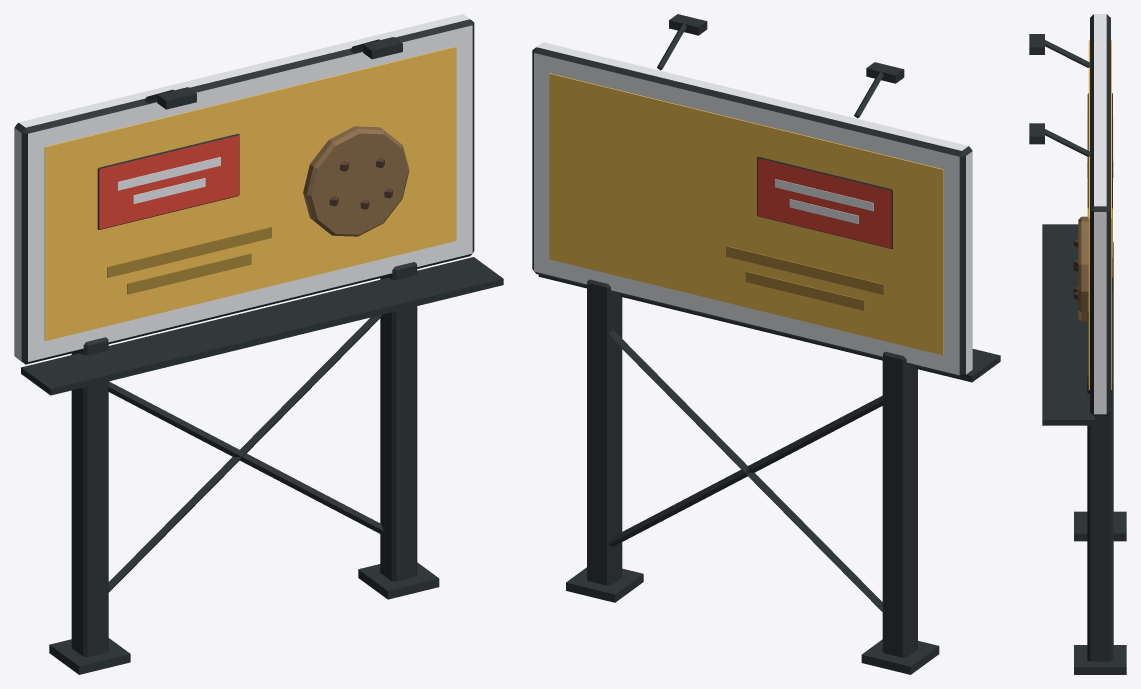
Rendered from billboard.glb.
The picture shows the model from 3 angles, left to right: view 1: azimuth 30°, elevation 25°; view 2: azimuth 150°, elevation 25°; view 3: azimuth 270°, elevation 25°; orthographic projection. The views are drawn at different scales.
Visible parts, largest first — view 1: billboard-m; view 2: billboard-m; view 3: billboard-m.
Part boxes in pixels (x1=…): billboard-m: x1=14, y1=14, x2=503, y2=674; billboard-m: x1=532, y1=14, x2=1000, y2=674; billboard-m: x1=1029, y1=14, x2=1126, y2=674.
Size of the model in its own units: 4.4 by 5.38 by 0.925.
